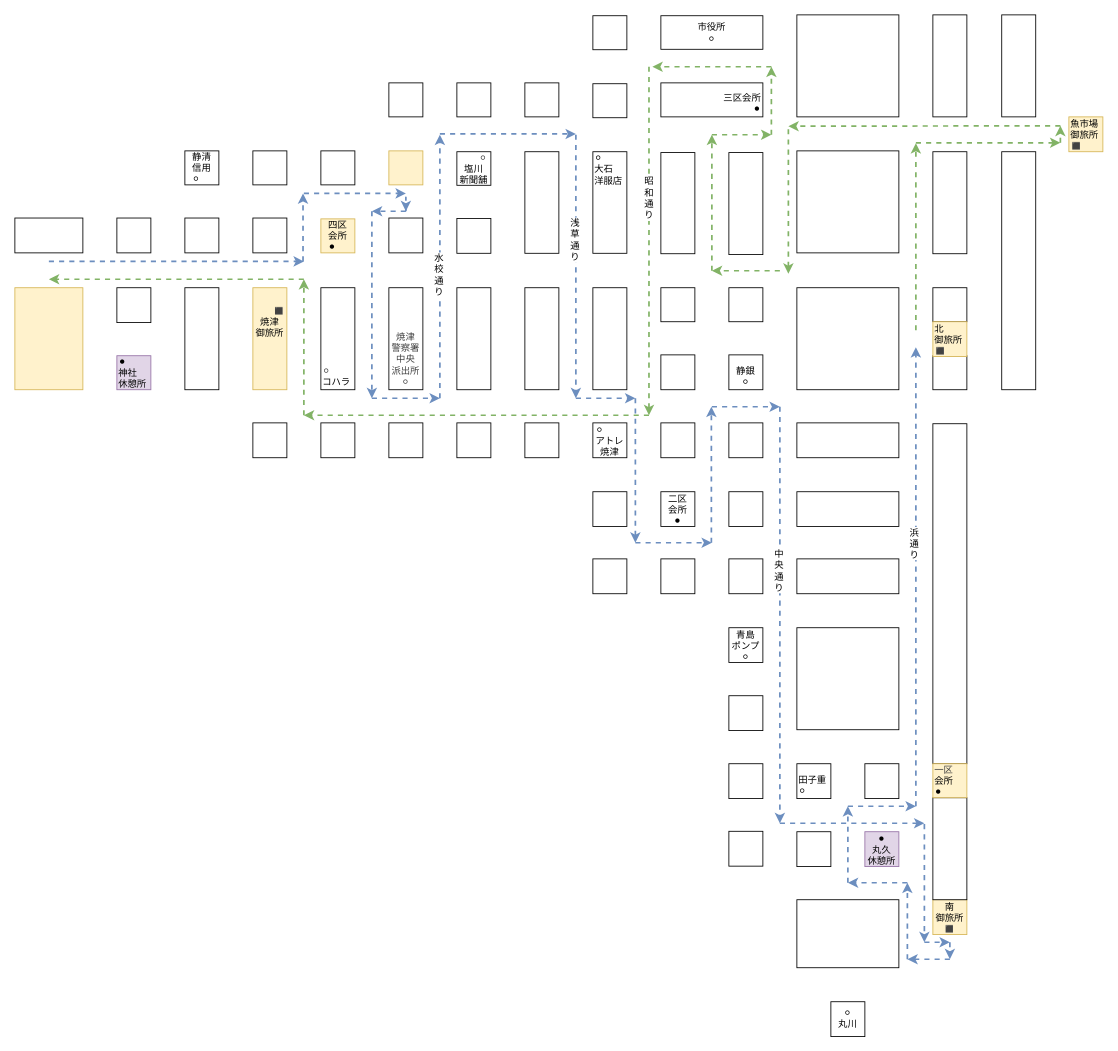
Image size: 1118x1051. Some labels were removed from this diagram. The centre of each missing label's shape, as x and y in pixels:
◼️ 焼津神社: the point at 48,338
しずおか焼津 信金 ⚪︎: the point at 609,338
御沓脱 ⚫︎: the point at 405,167
青峰プール⚪︎: the point at 847,933
